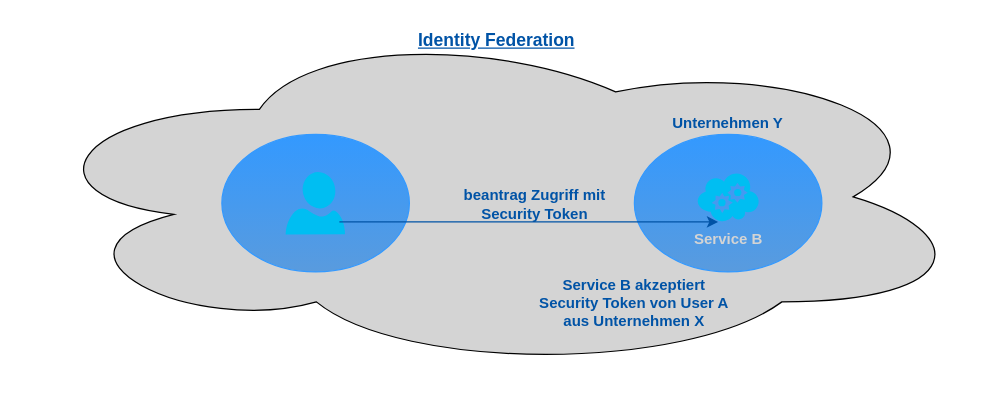
The diagram is 994 pixels wide and 394 high, and some of its shapes have lost their labels. Here are the shapes that lost their labels. From the top down, the box of each, then its label:
(285, 171, 344, 234): User A
(221, 133, 409, 272): Unternehmen X
